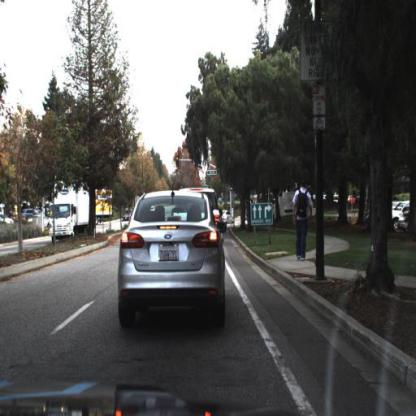car: (118, 189, 228, 331), (208, 182, 226, 228), (123, 207, 134, 223)
pedestrian: (293, 180, 312, 259)
trafficLight: (176, 157, 180, 168)
trafficLight-RedLeft: (174, 156, 182, 172)
truck: (49, 183, 89, 244)
